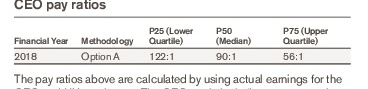table: (0, 0, 368, 89)
